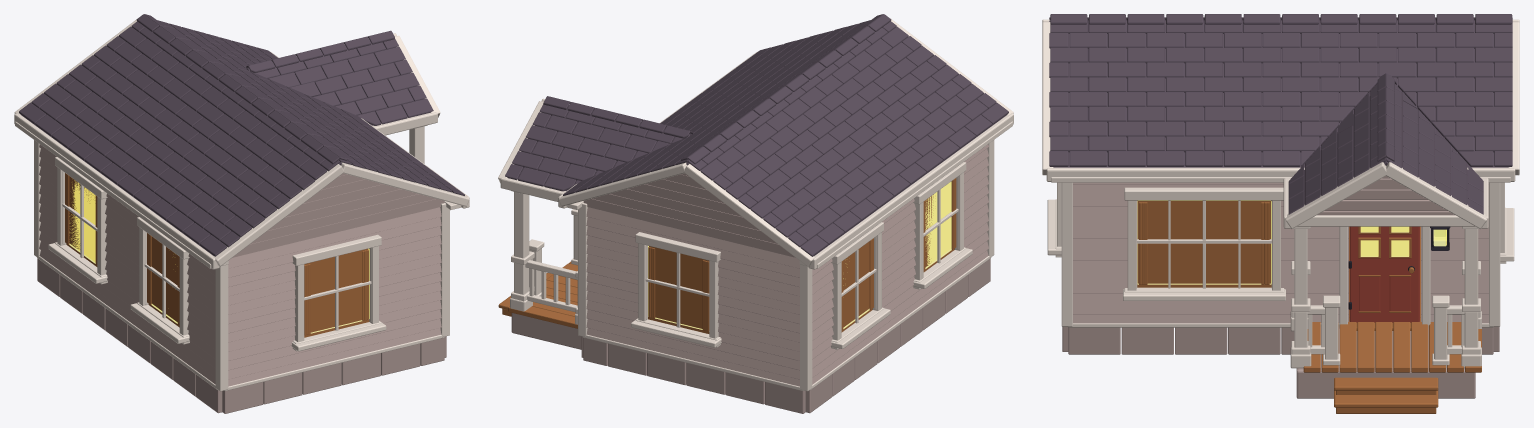
Rendered from bld.house-a.glb.
The picture shows the model from 3 angles, left to right: view 1: azimuth 30°, elevation 25°; view 2: azimuth 150°, elevation 25°; view 3: azimuth 270°, elevation 25°; orthographic projection. The views are drawn at different scales.
Bounding box in the file's own units: 7.14 × 4.55 × 7.17.
